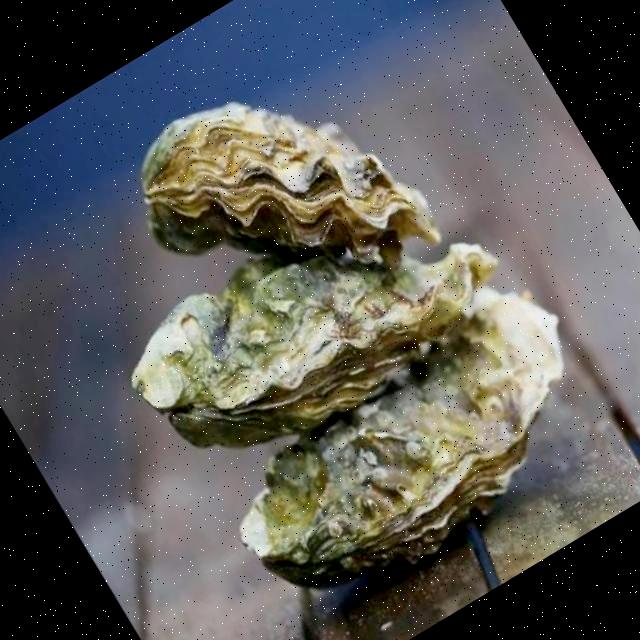Oyster-Closed: (241, 294, 564, 586), (132, 242, 498, 448), (139, 99, 441, 261)
